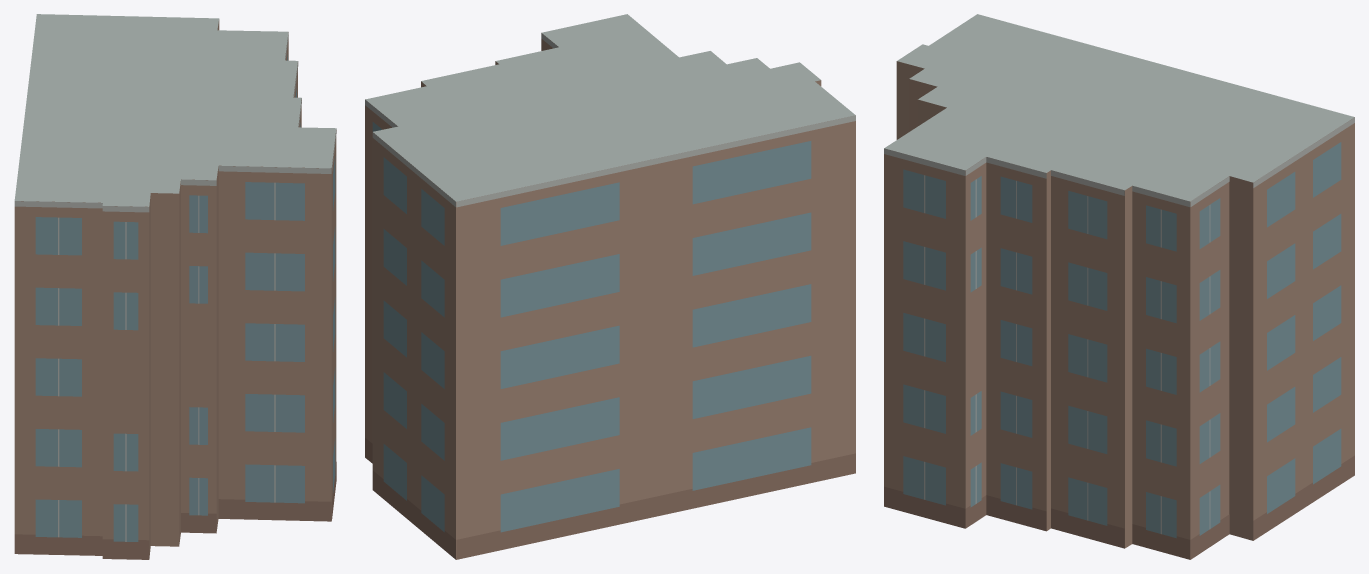
Rendered from survey-upis-32926165.glb.
The picture shows the model from 3 angles, left to right: view 1: azimuth 30°, elevation 25°; view 2: azimuth 150°, elevation 25°; view 3: azimuth 270°, elevation 25°; orthographic projection.
Parts seen in each view (by area): view 1: survey-upis-32926165.tmp; view 2: survey-upis-32926165.tmp; view 3: survey-upis-32926165.tmp.
Boxes of the visible parts, x1=… form: survey-upis-32926165.tmp: x1=14, y1=14, x2=336, y2=559; survey-upis-32926165.tmp: x1=365, y1=14, x2=855, y2=559; survey-upis-32926165.tmp: x1=884, y1=14, x2=1354, y2=559.
Bounding box in the file's own units: 17.13 × 15.25 × 18.17.
